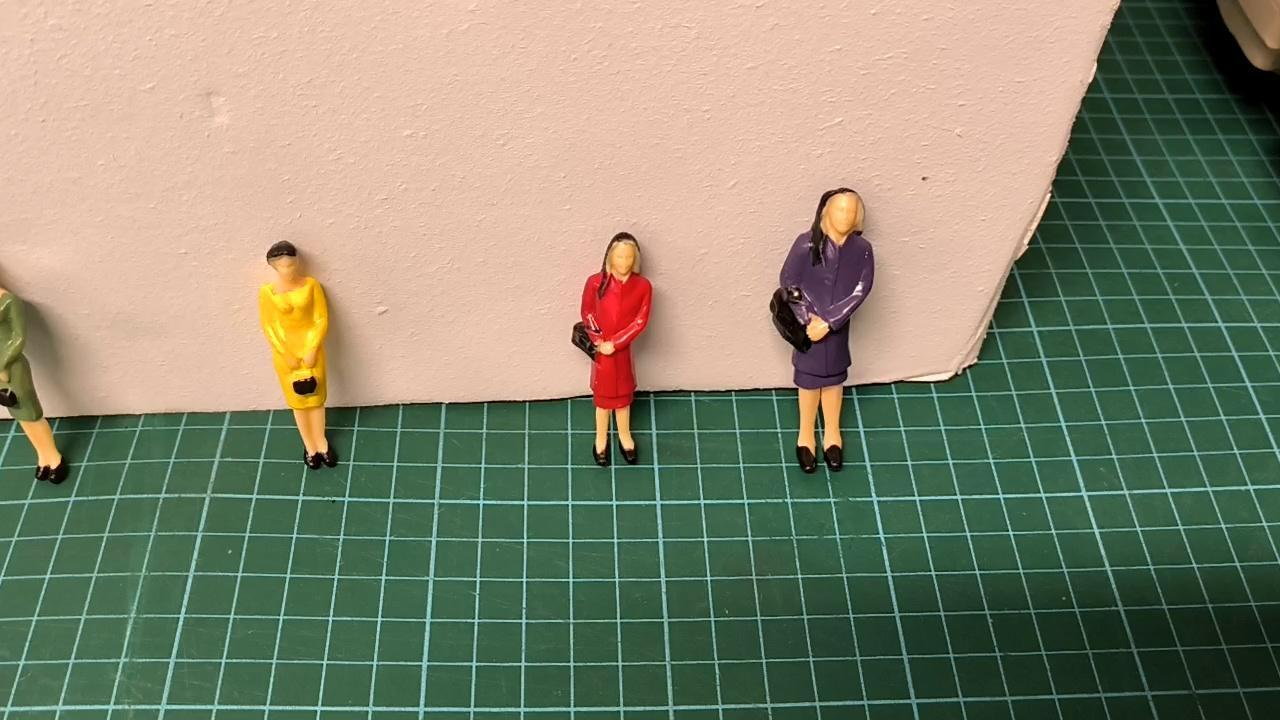human: (768, 170, 877, 478), (557, 221, 669, 474), (249, 235, 357, 475)
